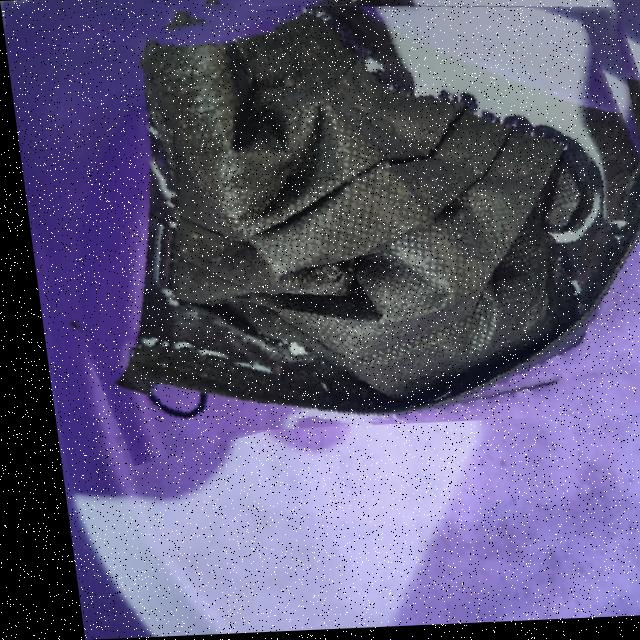litter: (3, 0, 640, 438)
